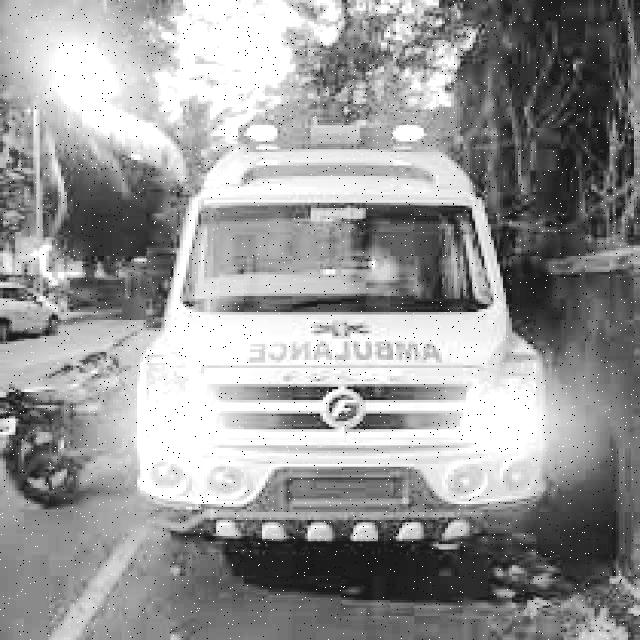LCV: (128, 117, 541, 535)
